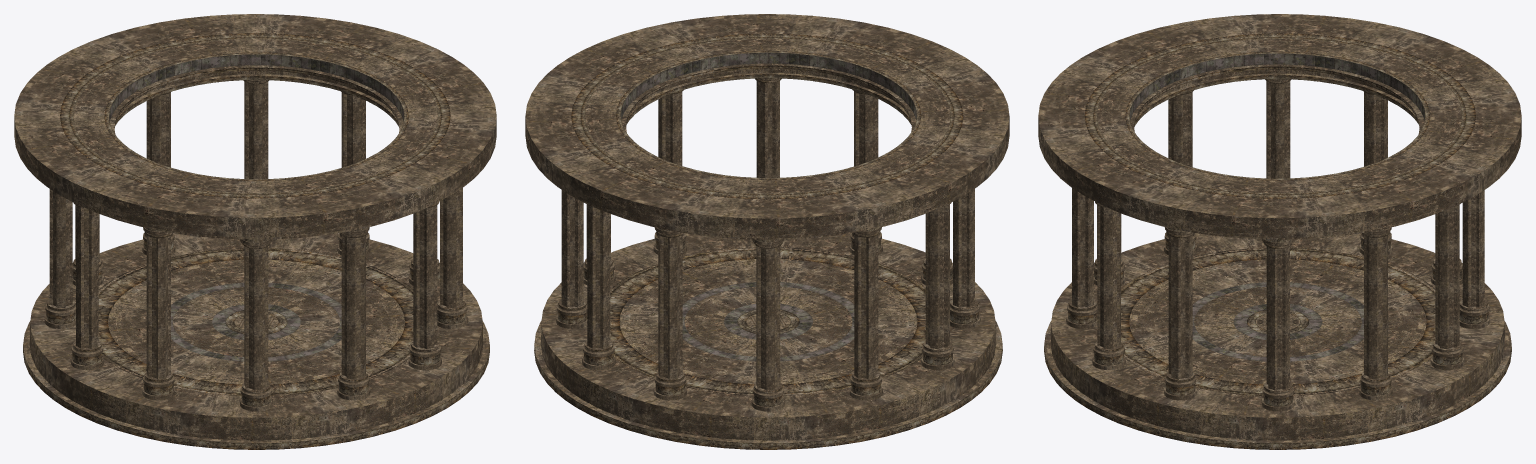
File: materials_5_building_28.fbx
3 renders of one model, left to right at view 1: azimuth 30°, elevation 25°; view 2: azimuth 150°, elevation 25°; view 3: azimuth 270°, elevation 25°, orthographic.
Visible parts, largest first — view 1: materials_5_building_28; view 2: materials_5_building_28; view 3: materials_5_building_28.
Part boxes in pixels (<box>): materials_5_building_28: <box>14,14,496,449</box>; materials_5_building_28: <box>525,14,1009,449</box>; materials_5_building_28: <box>1038,14,1521,449</box>.
Size of the model in its own units: 1096 by 588 by 1096.
